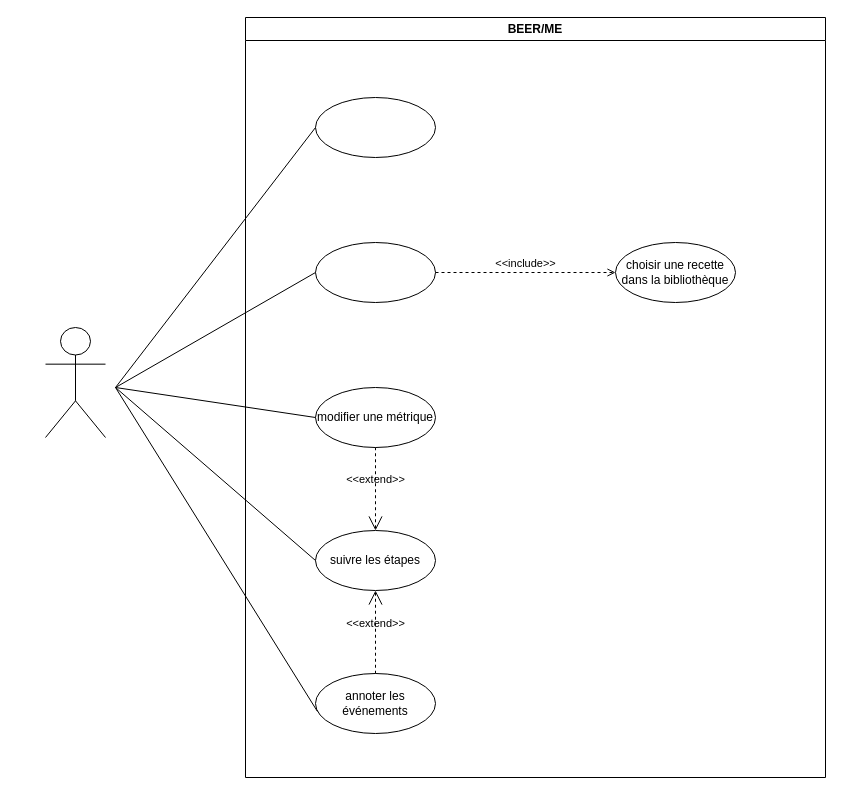
Some shapes in this 843 by 795 pixel diagram are drawn without their labels. The box of each missing label's shape, as (x1, y1, x2, y2) in pixels:
brasseur opérationnel: (44, 326, 106, 438)
démarrer un brassin: (314, 242, 436, 302)
importer une recette: (314, 96, 436, 158)
